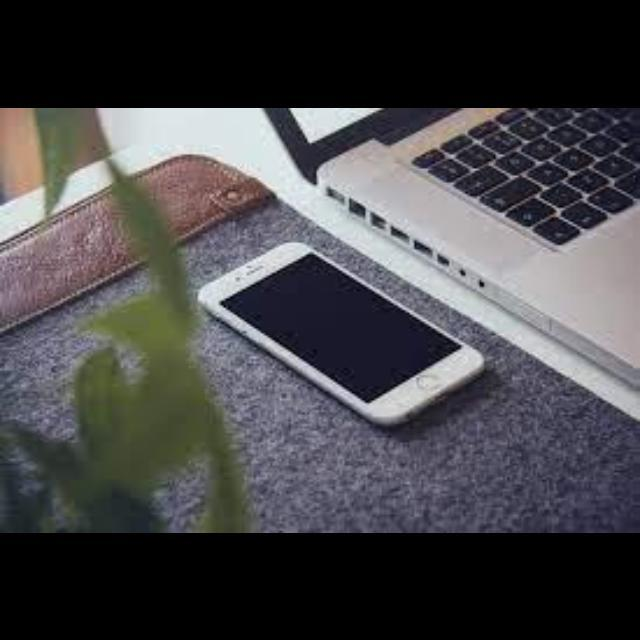Phone: (198, 242, 486, 423)
